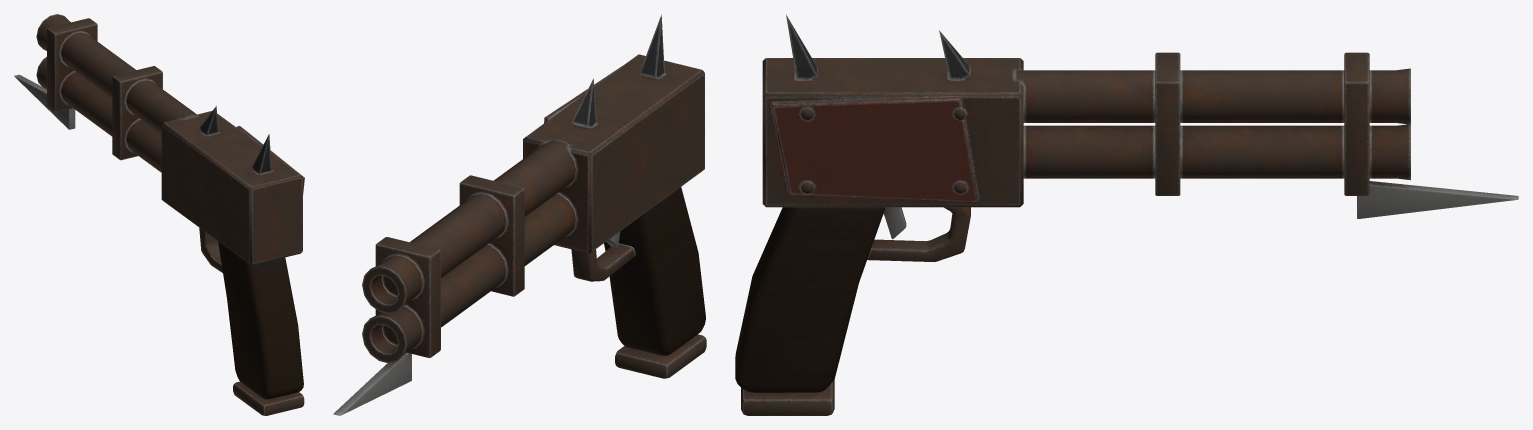
File: kragh_pistol.glb
3 views of the same model, side by side, from view 1: azimuth 30°, elevation 25°; view 2: azimuth 150°, elevation 25°; view 3: azimuth 270°, elevation 25° (orthographic). The views are drawn at different scales.
Visible parts, largest first — view 1: kragh_pistol; view 2: kragh_pistol; view 3: kragh_pistol.
Boxes of the visible parts, box(x1,y1,x2,y2) form: kragh_pistol: box(14, 14, 304, 415); kragh_pistol: box(333, 14, 706, 415); kragh_pistol: box(735, 14, 1518, 415).
Bounding box in the file's own units: 0.0562 × 0.2386 × 0.4347.
Materials: 1 (1 with a texture image).
